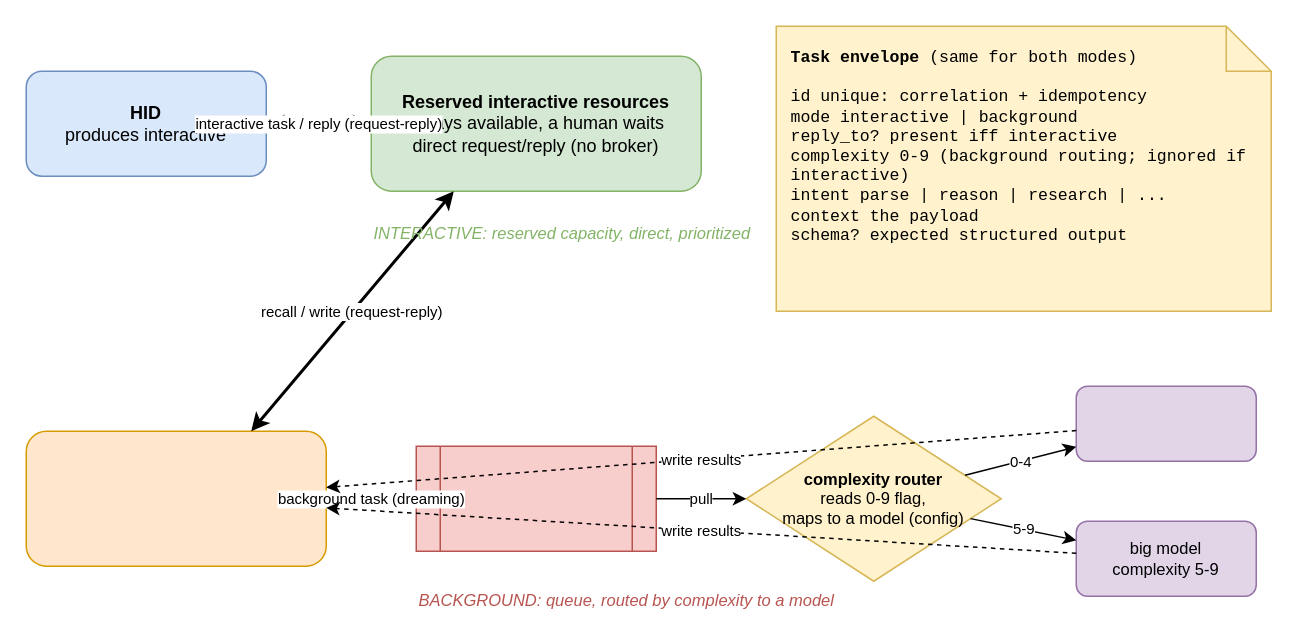
Some shapes in this 1298 by 638 pixel diagram are drawn without their labels. Each missing label, with the centre of its shape:
"background queue (broker)" belongs at pixel 535 498.
"memory authority (Neo4j), request/reply dreaming emits background tasks" belongs at pixel 175 498.
"small model complexity 0-4" belongs at pixel 1165 423.
